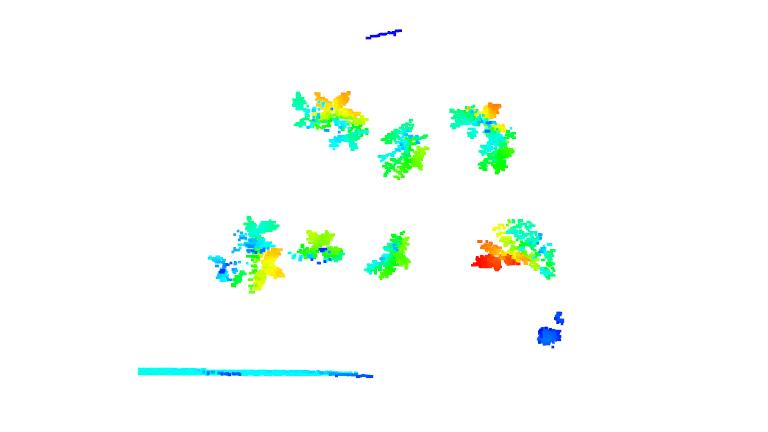chickpea: (207, 213, 286, 294), (471, 216, 557, 283), (289, 85, 371, 152), (447, 98, 519, 174), (376, 114, 429, 181), (362, 228, 413, 280), (286, 227, 345, 266)
